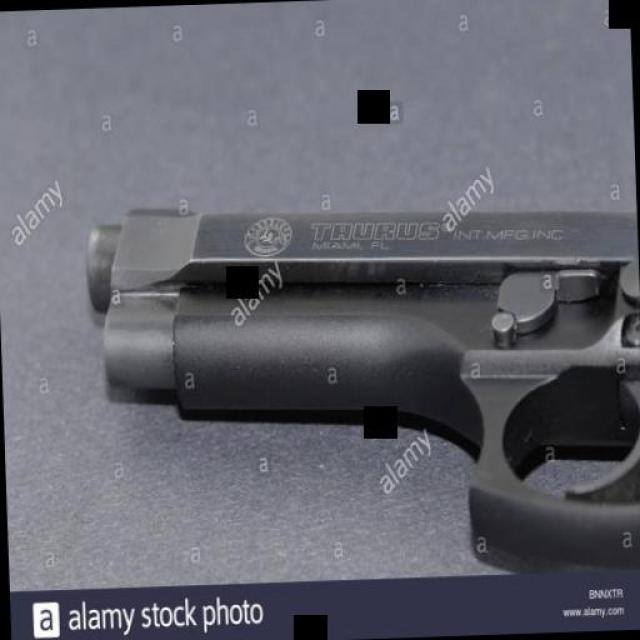gun: (84, 179, 640, 590)
